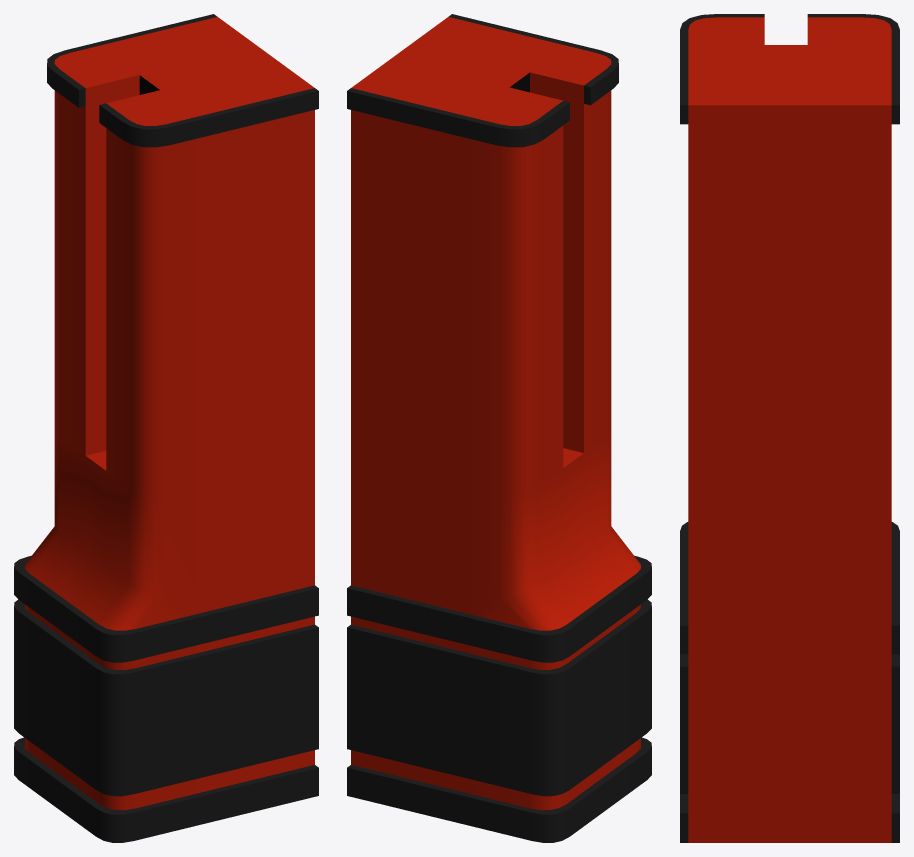
File: S_assete__basement_column_1.fbx
3 renders of one model, left to right at view 1: azimuth 30°, elevation 25°; view 2: azimuth 150°, elevation 25°; view 3: azimuth 270°, elevation 25°, orthographic. The views are drawn at different scales.
Parts seen in each view (by area): view 1: S_basement_column_1; view 2: S_basement_column_1; view 3: S_basement_column_1.
Part boxes in pixels (x1=…): S_basement_column_1: x1=14, y1=14, x2=318, y2=842; S_basement_column_1: x1=347, y1=14, x2=651, y2=842; S_basement_column_1: x1=680, y1=14, x2=899, y2=842.
Size of the model in its own units: 62.02 by 200 by 54.04.
